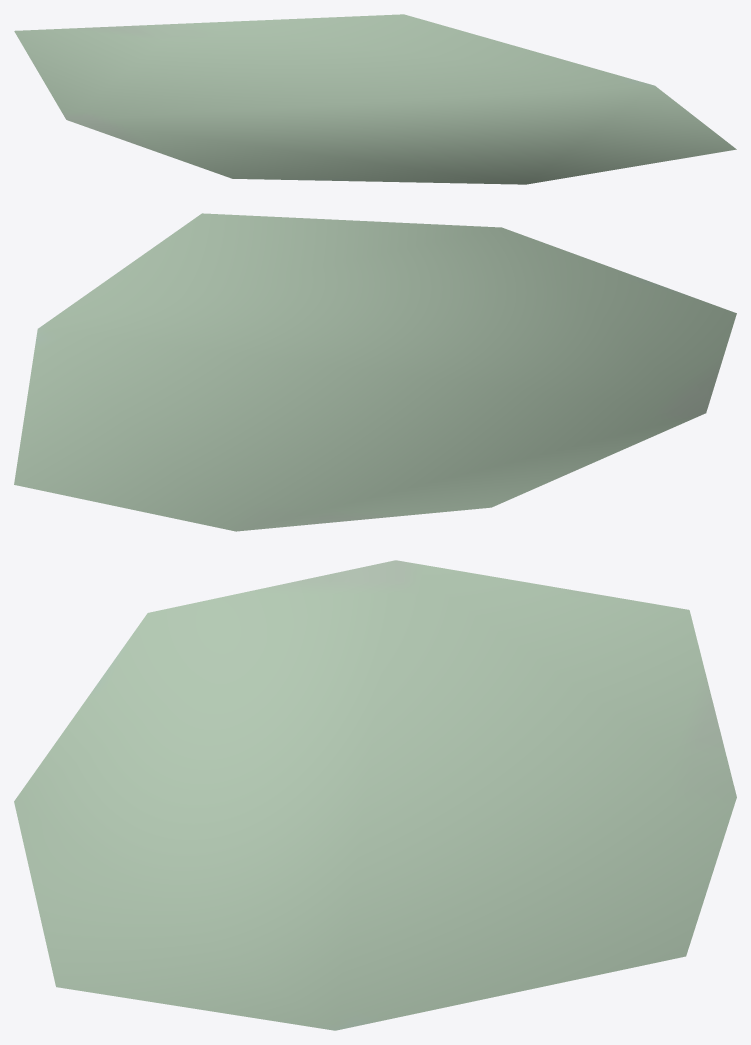
Rendered from TROLLHOLE02_HOLECAP187.fbx.
The picture shows the model from 3 angles, top to bottom: view 1: azimuth 30°, elevation 25°; view 2: azimuth 150°, elevation 25°; view 3: azimuth 270°, elevation 25°; orthographic projection. The views are drawn at different scales.
Parts seen in each view (by area): view 1: TROLLHOLE02_HOLECAP187; view 2: TROLLHOLE02_HOLECAP187; view 3: TROLLHOLE02_HOLECAP187.
Part boxes in pixels (x1,y1,x2,y2): TROLLHOLE02_HOLECAP187: (14,14,736,184); TROLLHOLE02_HOLECAP187: (14,213,736,531); TROLLHOLE02_HOLECAP187: (14,560,736,1030).
Bounding box in the file's own units: 16361 × 2396 × 13959.
Materials: 1 (1 with a texture image).
